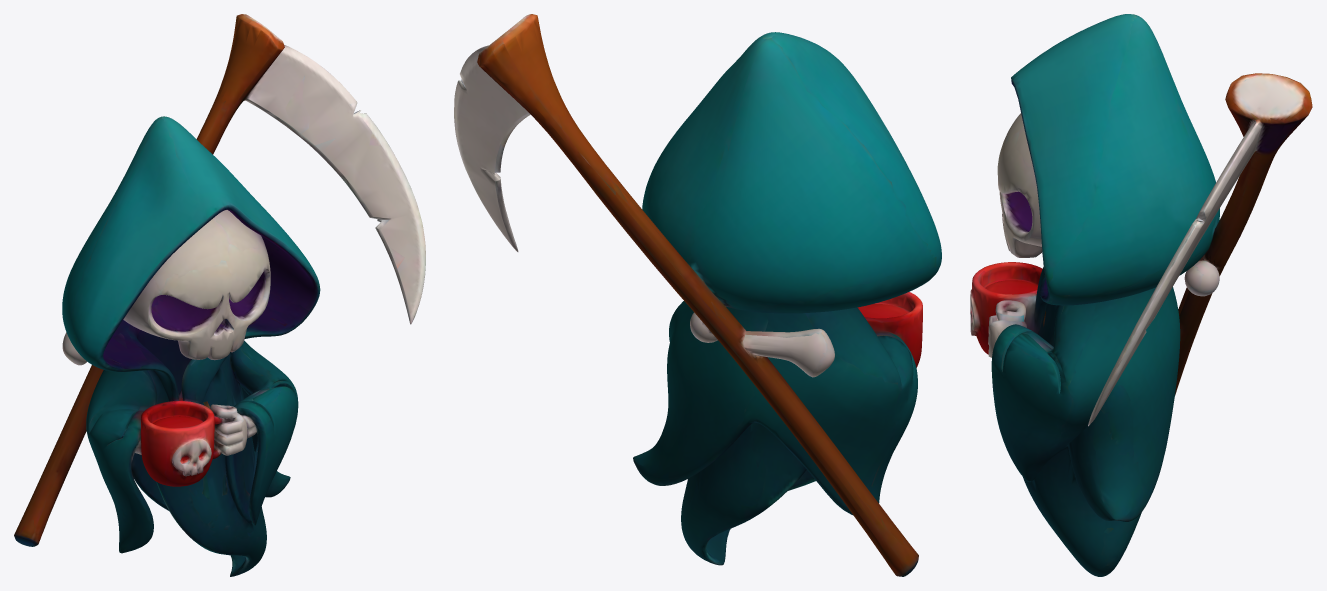
Rendered from pixellabs-grim-reaper-3d-3011-D2I1wZRS.glb.
3 renders of one model, left to right at view 1: azimuth 30°, elevation 25°; view 2: azimuth 150°, elevation 25°; view 3: azimuth 270°, elevation 25°, orthographic. The views are drawn at different scales.
Visible parts, largest first — view 1: material; view 2: material; view 3: material.
Boxes of the visible parts, x1,y1,x2,y2 form: material: (14,14,425,576); material: (454,14,941,576); material: (970,14,1312,576).
Bounding box in the file's own units: 0.871 × 1.02 × 0.5761.
1 material, 1 textured.
